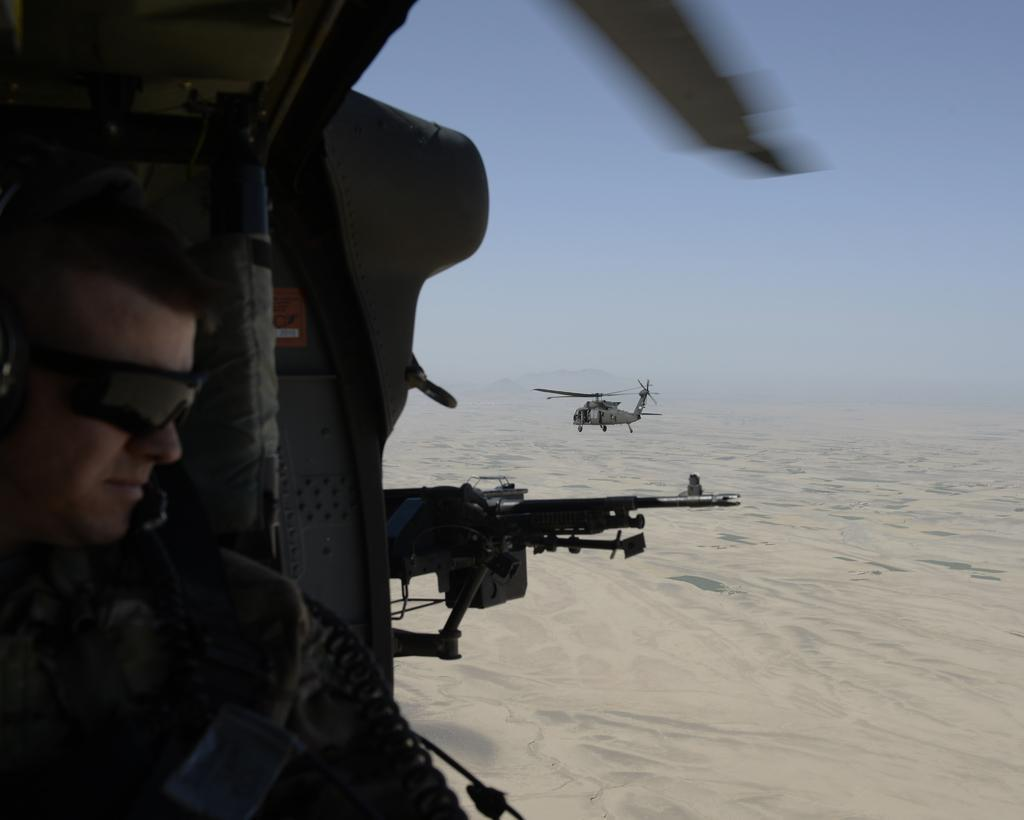gun: (140, 474, 750, 670)
